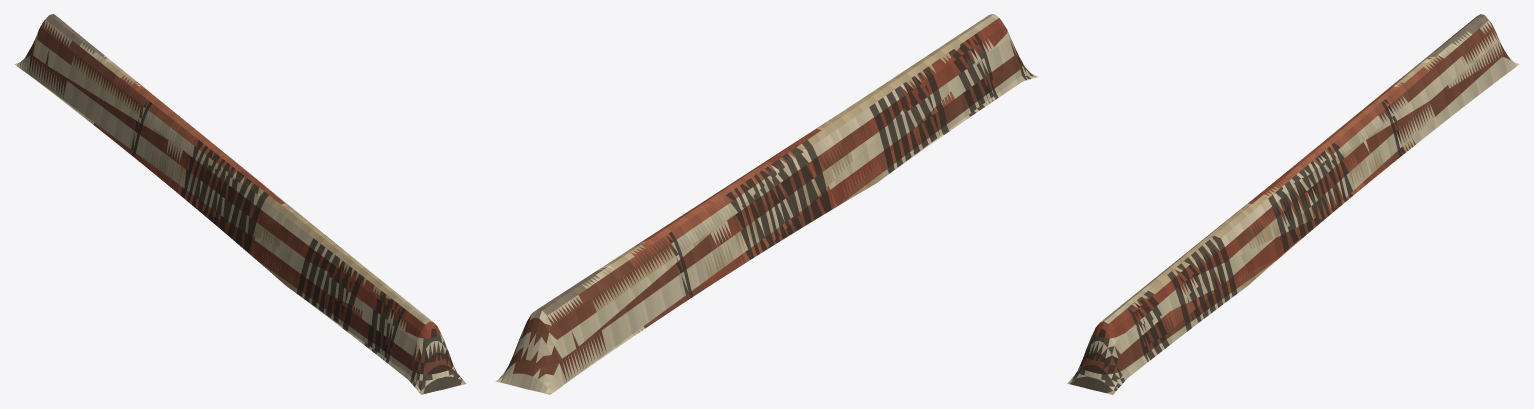
File: dam_slot_fin_far.glb
3 renders of one model, left to right at view 1: azimuth 30°, elevation 25°; view 2: azimuth 150°, elevation 25°; view 3: azimuth 330°, elevation 25°, orthographic. The views are drawn at different scales.
Visible parts, largest first — view 1: dam_slot_fin_far; view 2: dam_slot_fin_far; view 3: dam_slot_fin_far.
Part boxes in pixels (<box>): dam_slot_fin_far: <box>14,14,466,394</box>; dam_slot_fin_far: <box>495,14,1037,394</box>; dam_slot_fin_far: <box>1067,14,1519,394</box>.
Size of the model in its own units: 22 by 40.46 by 340.
